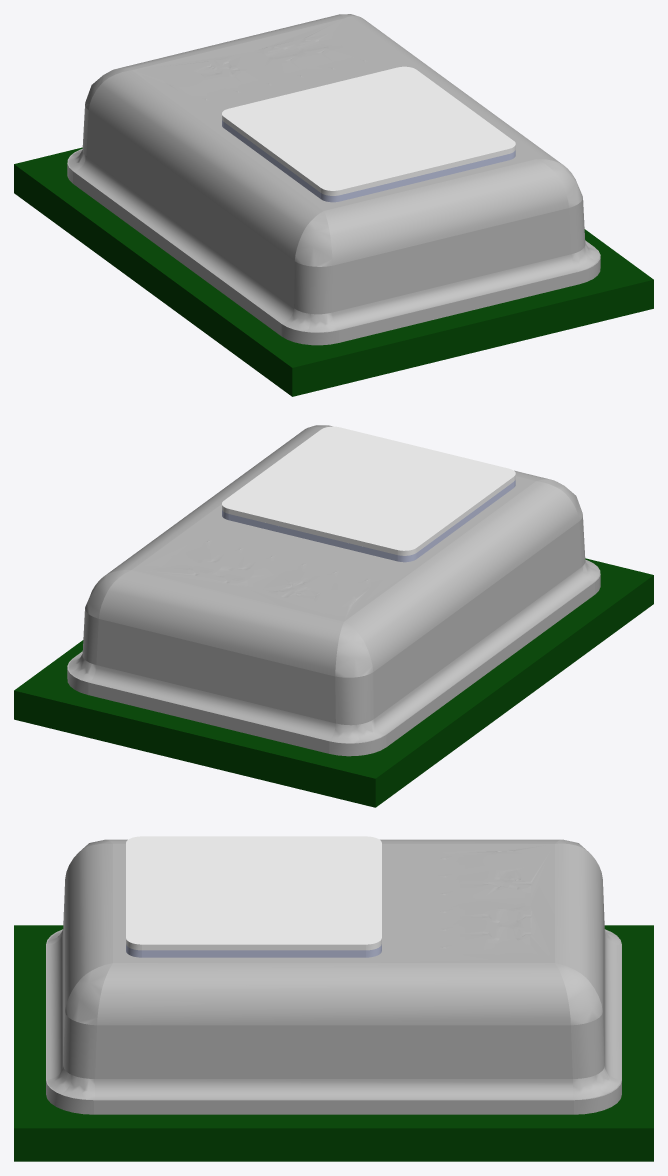
Rendered from sfe-stcc4.glb.
3 views of the same model, one above another, from view 1: azimuth 30°, elevation 25°; view 2: azimuth 150°, elevation 25°; view 3: azimuth 270°, elevation 25° (orthographic). The views are drawn at different scales.
Parts seen in each view (by area): view 1: 0.5_0.5_0.5_0.85, 0_0.08333333333333333_0_0, 1_1_1_0.85, 0.5833333333333334_0.6666666666666666_0.8333333333333334_0; view 2: 0.5_0.5_0.5_0.85, 0_0.08333333333333333_0_0, 1_1_1_0.85, 0.5833333333333334_0.6666666666666666_0.8333333333333334_0; view 3: 0.5_0.5_0.5_0.85, 0_0.08333333333333333_0_0, 1_1_1_0.85, 0.5833333333333334_0.6666666666666666_0.8333333333333334_0.
Boxes of the visible parts, x1,y1,x2,y2 form: 0.5_0.5_0.5_0.85: (67,14,600,345); 0_0.08333333333333333_0_0: (14,147,653,396); 1_1_1_0.85: (222,66,515,195); 0.5833333333333334_0.6666666666666666_0.8333333333333334_0: (222,120,515,202); 0.5_0.5_0.5_0.85: (67,425,600,756); 0_0.08333333333333333_0_0: (14,558,653,807); 1_1_1_0.85: (222,426,515,555); 0.5833333333333334_0.6666666666666666_0.8333333333333334_0: (222,480,515,562); 0.5_0.5_0.5_0.85: (46,839,621,1114); 0_0.08333333333333333_0_0: (14,925,653,1161); 1_1_1_0.85: (126,836,381,950); 0.5833333333333334_0.6666666666666666_0.8333333333333334_0: (126,944,381,957).
Bounding box in the file's own units: 0.3 × 0.117 × 0.4.
